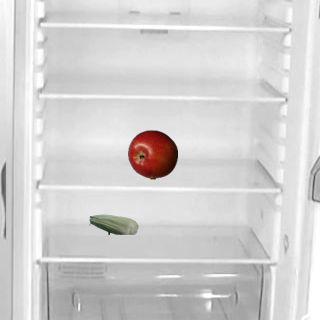Apple Braeburn: (127, 129, 177, 179)
Corn Husk: (88, 199, 138, 249)
